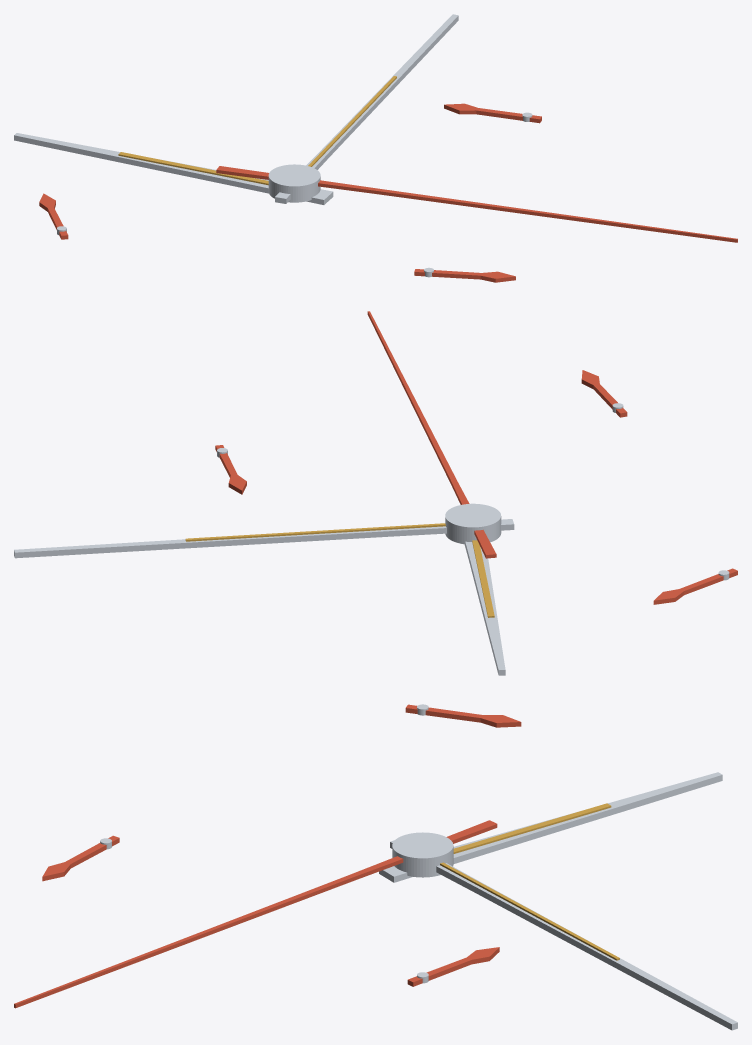
Rendered from hands-chronograph-syringe.glb.
The picture shows the model from 3 angles, top to bottom: view 1: azimuth 30°, elevation 25°; view 2: azimuth 150°, elevation 25°; view 3: azimuth 270°, elevation 25°; orthographic projection. The views are drawn at different scales.
Visible parts, largest first — view 1: DD_ARCH_CHRONO_SECONDS, DD_ARCH_HAND_0, DD_ARCH_HAND_1, DD_ARCH_HAND_HUB, DD_ARCH_VK63_SYRINGE_1, DD_ARCH_VK63_SYRINGE_2, DD_ARCH_HAND_LUME_0, DD_ARCH_HAND_LUME_1, DD_ARCH_VK63_SYRINGE_0; view 2: DD_ARCH_HAND_1, DD_ARCH_HAND_HUB, DD_ARCH_CHRONO_SECONDS, DD_ARCH_HAND_0, DD_ARCH_HAND_LUME_1, DD_ARCH_VK63_SYRINGE_0, DD_ARCH_HAND_LUME_0; view 3: DD_ARCH_HAND_0, DD_ARCH_HAND_1, DD_ARCH_CHRONO_SECONDS, DD_ARCH_HAND_HUB, DD_ARCH_VK63_SYRINGE_0, DD_ARCH_HAND_LUME_0, DD_ARCH_HAND_LUME_1, DD_ARCH_VK63_SYRINGE_2, DD_ARCH_VK63_SYRINGE_1.
Boxes of the visible parts, bbox=[...] form: DD_ARCH_CHRONO_SECONDS: bbox=[216, 166, 737, 242]; DD_ARCH_HAND_0: bbox=[14, 133, 333, 204]; DD_ARCH_HAND_1: bbox=[275, 14, 458, 203]; DD_ARCH_HAND_HUB: bbox=[268, 164, 320, 202]; DD_ARCH_VK63_SYRINGE_1: bbox=[414, 269, 515, 282]; DD_ARCH_VK63_SYRINGE_2: bbox=[444, 103, 541, 123]; DD_ARCH_HAND_LUME_0: bbox=[118, 152, 268, 185]; DD_ARCH_HAND_LUME_1: bbox=[308, 76, 396, 166]; DD_ARCH_VK63_SYRINGE_0: bbox=[39, 193, 68, 239]; DD_ARCH_HAND_1: bbox=[14, 519, 514, 558]; DD_ARCH_HAND_HUB: bbox=[445, 503, 501, 544]; DD_ARCH_CHRONO_SECONDS: bbox=[367, 311, 496, 558]; DD_ARCH_HAND_0: bbox=[464, 541, 505, 675]; DD_ARCH_HAND_LUME_1: bbox=[185, 523, 445, 541]; DD_ARCH_VK63_SYRINGE_0: bbox=[653, 568, 737, 604]; DD_ARCH_HAND_LUME_0: bbox=[472, 540, 494, 617]; DD_ARCH_HAND_0: bbox=[379, 772, 722, 882]; DD_ARCH_HAND_1: bbox=[390, 840, 737, 1030]; DD_ARCH_CHRONO_SECONDS: bbox=[14, 820, 497, 1008]; DD_ARCH_HAND_HUB: bbox=[392, 832, 453, 877]; DD_ARCH_VK63_SYRINGE_0: bbox=[405, 704, 521, 727]; DD_ARCH_HAND_LUME_0: bbox=[453, 803, 611, 853]; DD_ARCH_HAND_LUME_1: bbox=[440, 862, 619, 960]; DD_ARCH_VK63_SYRINGE_2: bbox=[407, 947, 499, 986]; DD_ARCH_VK63_SYRINGE_1: bbox=[42, 835, 119, 881].
Size of the model in its own units: 17.23 by 0.7 by 17.14.
